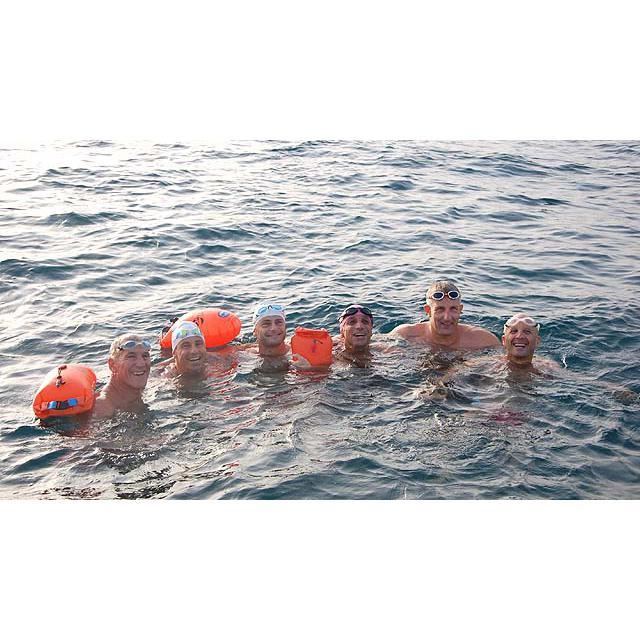human: (470, 304, 565, 409), (386, 278, 502, 359), (95, 336, 153, 446), (151, 323, 205, 393), (244, 299, 293, 374), (324, 301, 382, 361)
